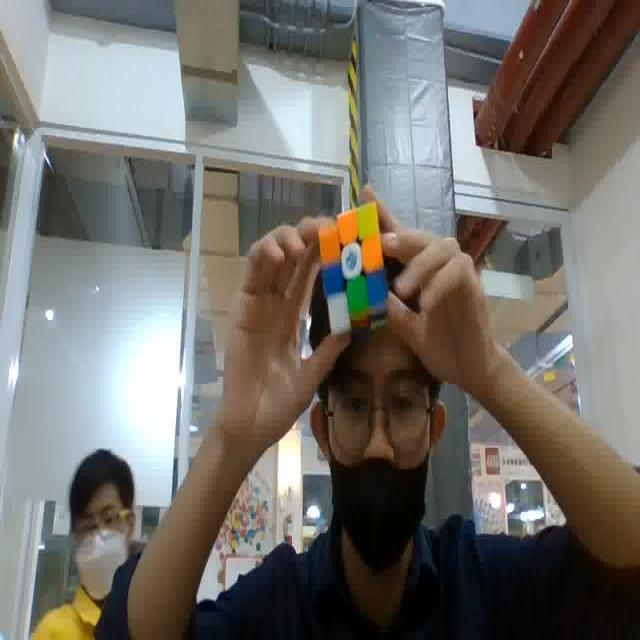Rub: (319, 202, 391, 336)
